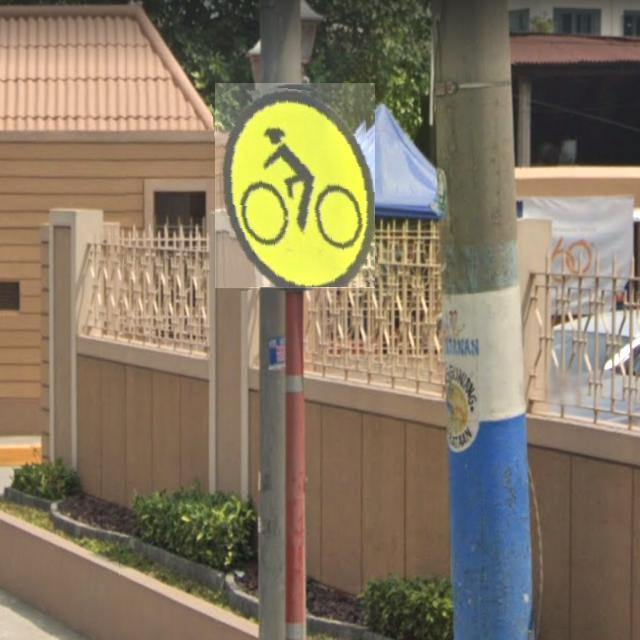bike lane: (215, 84, 375, 290)
